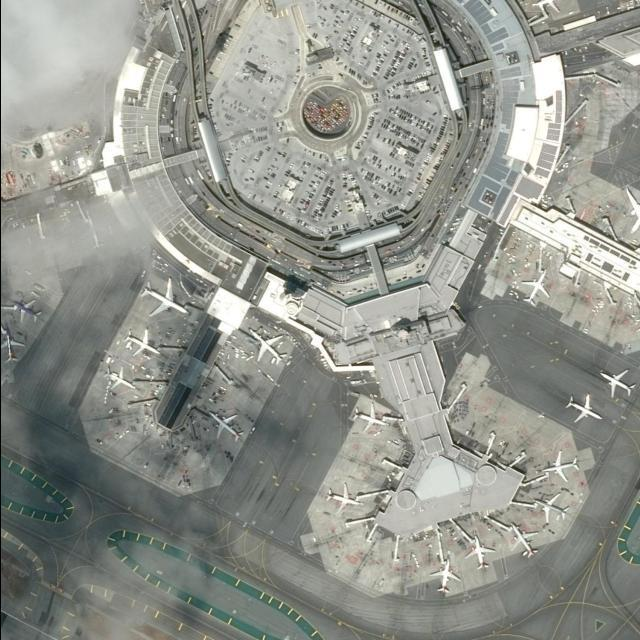Aircraft: (139, 277, 191, 319), (248, 325, 288, 365), (563, 391, 603, 428), (599, 363, 637, 400), (504, 521, 539, 559), (533, 489, 572, 523), (426, 556, 460, 595), (545, 450, 583, 481), (125, 325, 159, 359), (323, 481, 359, 513), (208, 409, 244, 441), (11, 293, 47, 325), (465, 534, 496, 570), (523, 266, 550, 306), (1, 327, 28, 365), (352, 402, 386, 432), (106, 365, 136, 395), (624, 181, 640, 234), (534, 0, 569, 14)
